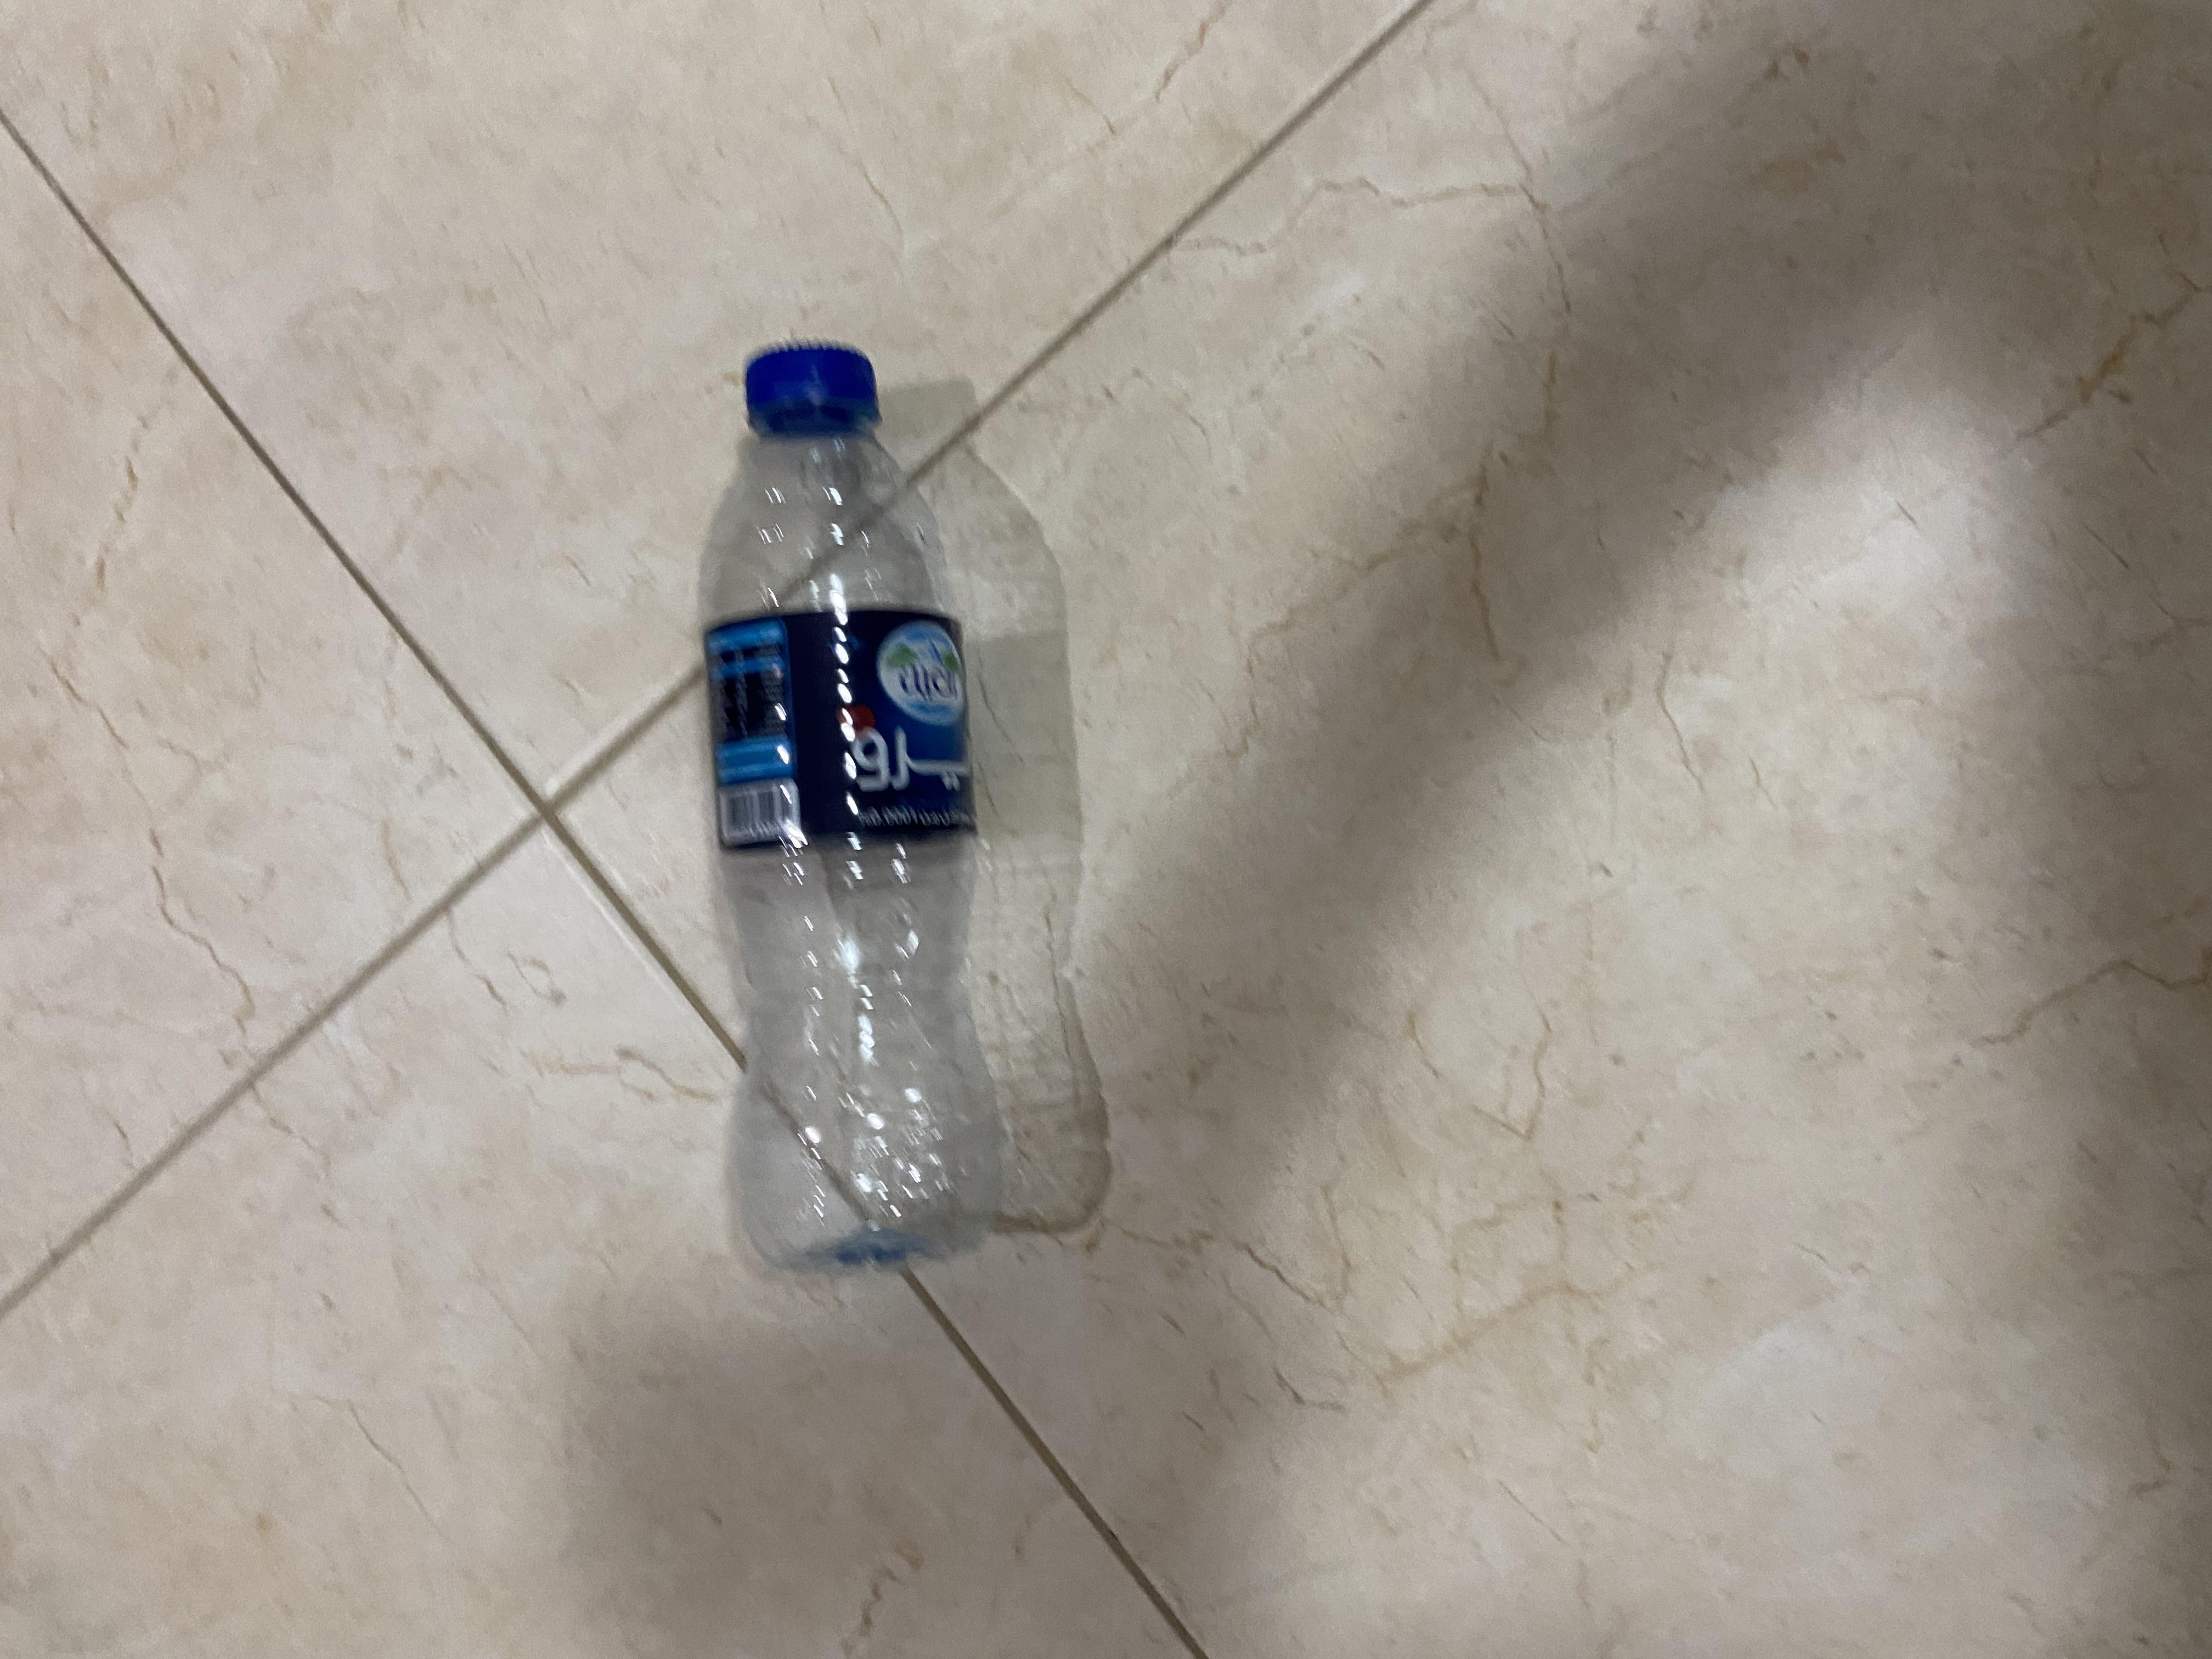bottle: (482, 511, 1759, 798)
